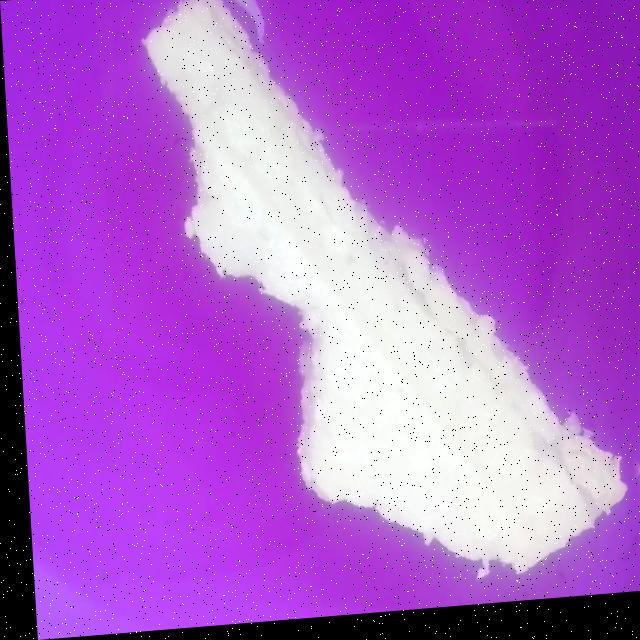litter: (95, 0, 640, 634)
